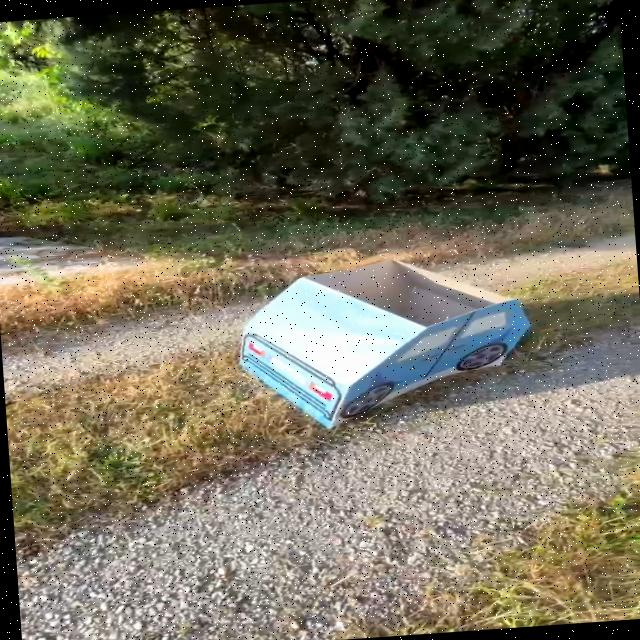blue_car: (219, 227, 558, 468)
